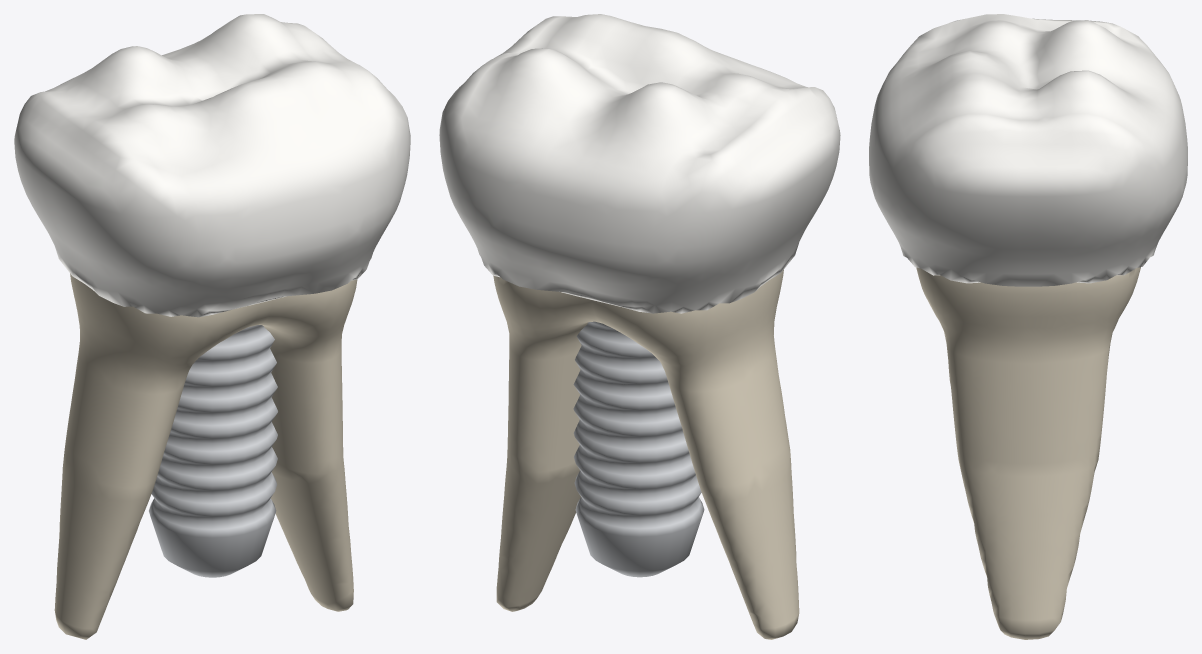
3 renders of one model, left to right at view 1: azimuth 30°, elevation 25°; view 2: azimuth 150°, elevation 25°; view 3: azimuth 270°, elevation 25°, orthographic. The views are drawn at different scales.
Visible parts, largest first — view 1: crown, root, implant; view 2: crown, root, implant; view 3: crown, root.
Boxes of the visible parts, left/top/right/bottom form: crown: left=14, top=14, right=410, bottom=317; root: left=54, top=273, right=357, bottom=639; implant: left=149, top=325, right=277, bottom=577; crown: left=439, top=14, right=840, bottom=313; root: left=493, top=270, right=799, bottom=639; implant: left=573, top=321, right=704, bottom=577; crown: left=869, top=14, right=1187, bottom=286; root: left=916, top=267, right=1140, bottom=639.
Bounding box in the file's own units: 10.57 × 17.63 × 9.38.
